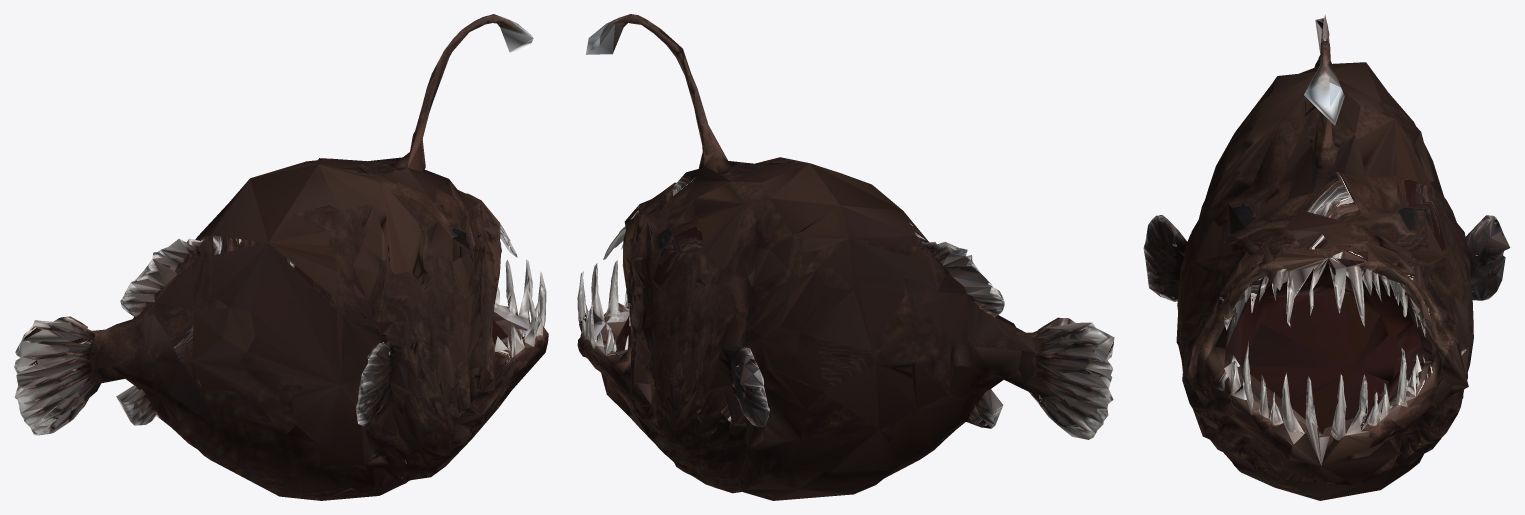
The model's file is angler.glb.
3 renders of one model, left to right at view 1: azimuth 30°, elevation 25°; view 2: azimuth 150°, elevation 25°; view 3: azimuth 270°, elevation 25°, orthographic. The views are drawn at different scales.
Visible parts, largest first — view 1: angler; view 2: angler; view 3: angler.
Part boxes in pixels (x1=…): angler: x1=14, y1=14, x2=548, y2=500; angler: x1=577, y1=14, x2=1114, y2=500; angler: x1=1143, y1=14, x2=1510, y2=500.
Size of the model in its own units: 1 by 0.795 by 0.5209.
1 material, 1 textured.
